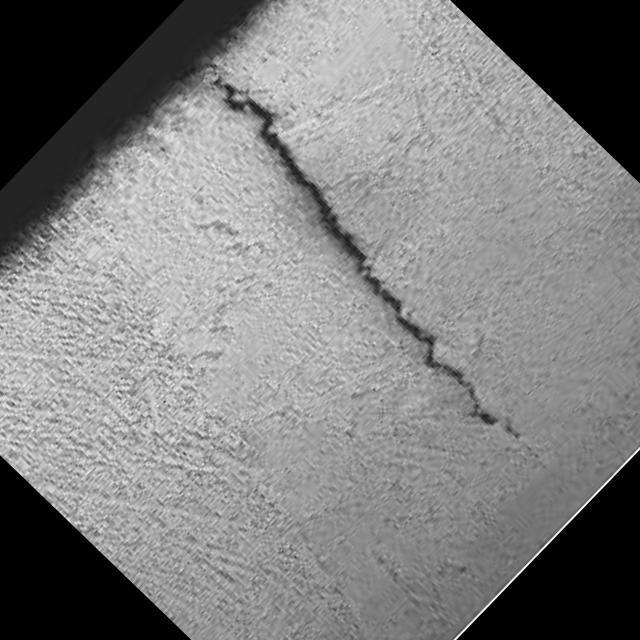defect: (207, 71, 509, 435)
